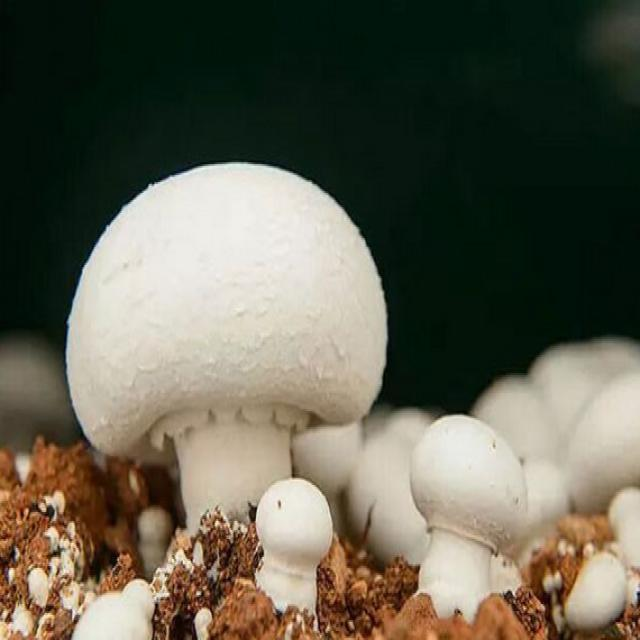Agaricus bisporus: (68, 164, 390, 537), (412, 414, 522, 604)
